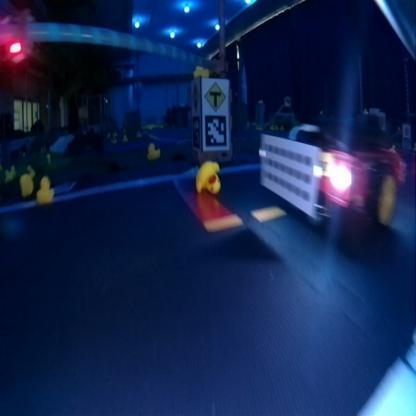Duckie: (196, 161, 219, 192), (37, 175, 53, 201), (19, 174, 32, 193), (194, 62, 208, 78), (146, 142, 159, 158)
Duckiebot: (259, 121, 396, 224)
Intersection sign: (203, 80, 225, 112)
QR code: (204, 113, 226, 148), (191, 114, 200, 149)
Signal sign: (190, 80, 200, 113)
Traffic light: (6, 10, 26, 62)
